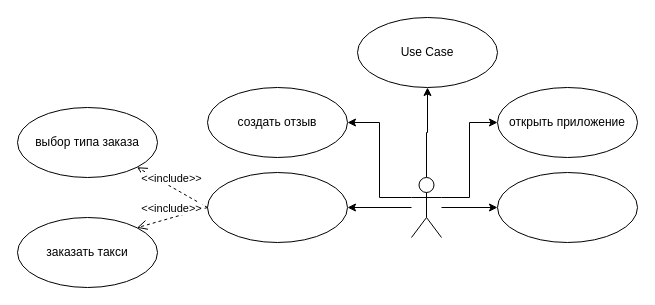
Image size: 655x305. Some labels were removed from this diagram. The box of each missing label's shape, as (x1, y1, x2, y2) in pixels:
Заказчик: (410, 176, 442, 238)
работа с моими заказами: (206, 172, 348, 242)
